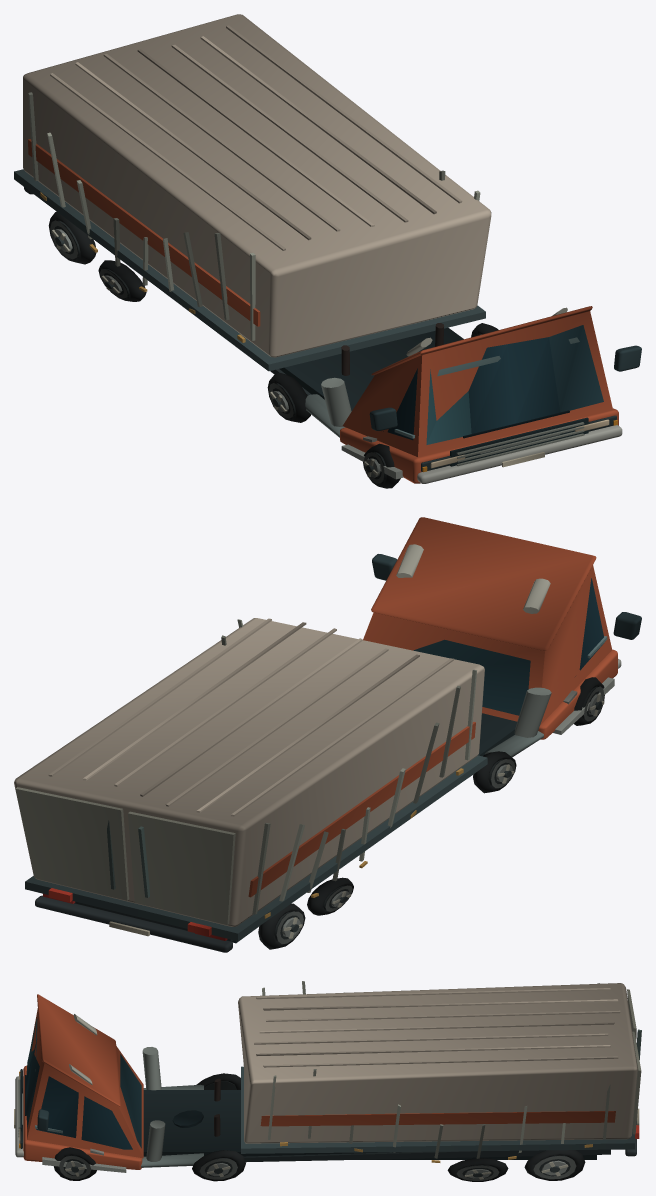
The model's file is semi.glb.
The picture shows the model from 3 angles, top to bottom: view 1: azimuth 30°, elevation 25°; view 2: azimuth 150°, elevation 25°; view 3: azimuth 270°, elevation 25°; orthographic projection. The views are drawn at different scales.
Visible parts, largest first — view 1: semi_body; view 2: semi_body; view 3: semi_body.
Boxes of the visible parts, box(x1,y1,x2,y2) form: semi_body: box(14, 14, 641, 488); semi_body: box(14, 517, 641, 952); semi_body: box(14, 981, 641, 1181).
Bounding box in the file's own units: 3.11 × 1.72 × 8.08.
